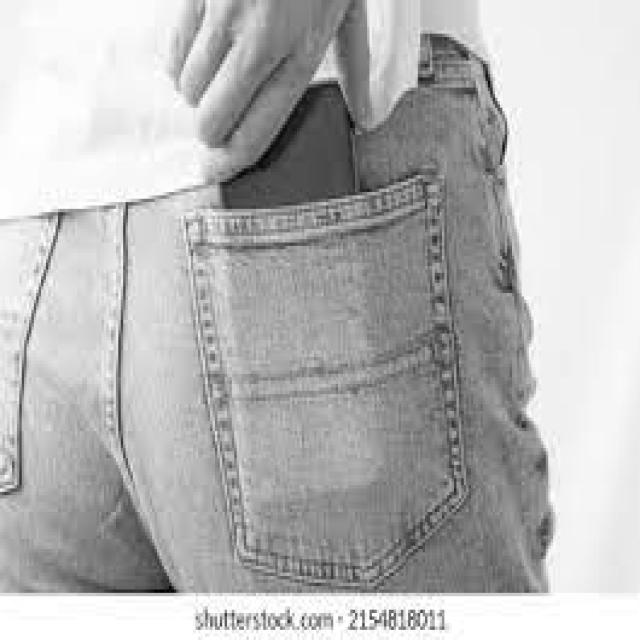No gun_phone: (220, 81, 359, 211)
